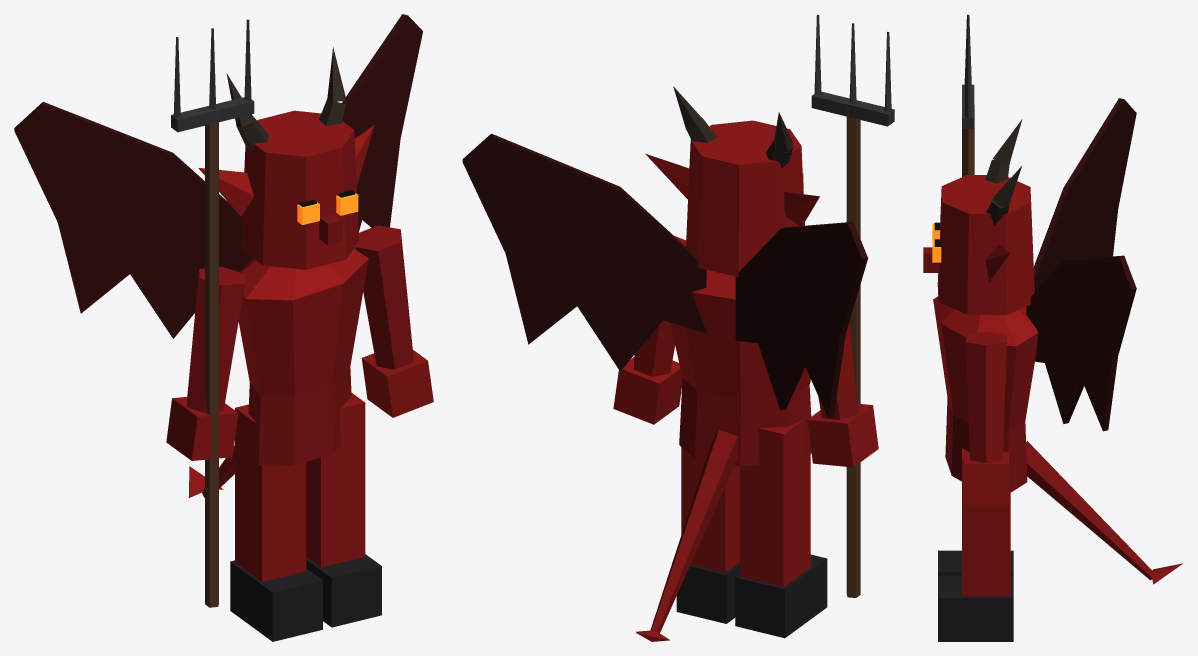
File: imp.glb
3 renders of one model, left to right at view 1: azimuth 30°, elevation 25°; view 2: azimuth 150°, elevation 25°; view 3: azimuth 270°, elevation 25°, orthographic. The views are drawn at different scales.
Parts seen in each view (by area): view 1: imp_wing_r, imp_torso, imp_head, imp_leg_r, imp_leg_l, imp_trident, imp_arm_l, imp_wing_l, imp_arm_r, imp_tail; view 2: imp_wing_l, imp_wing_r, imp_head, imp_leg_r, imp_torso, imp_trident, imp_leg_l, imp_arm_r, imp_tail, imp_arm_l; view 3: imp_head, imp_wing_l, imp_torso, imp_wing_r, imp_leg_l, imp_arm_l, imp_tail, imp_trident, imp_leg_r.
Boxes of the visible parts, <box> form: imp_wing_r: <box>14,101,253,338</box>; imp_torso: <box>238,247,368,465</box>; imp_head: <box>198,47,374,269</box>; imp_leg_r: <box>230,404,322,641</box>; imp_leg_l: <box>306,392,381,627</box>; imp_trident: <box>171,19,254,607</box>; imp_arm_l: <box>355,225,433,417</box>; imp_wing_l: <box>342,14,422,231</box>; imp_arm_r: <box>166,266,244,460</box>; imp_tail: <box>188,445,234,497</box>; imp_wing_l: <box>462,133,706,371</box>; imp_wing_r: <box>735,222,868,417</box>; imp_head: <box>645,86,819,276</box>; imp_leg_r: <box>735,418,827,638</box>; imp_torso: <box>670,270,811,466</box>; imp_trident: <box>811,15,894,597</box>; imp_leg_l: <box>676,409,739,623</box>; imp_arm_r: <box>807,320,878,467</box>; imp_tail: <box>636,430,738,641</box>; imp_arm_l: <box>613,236,686,424</box>; imp_head: <box>923,119,1034,314</box>; imp_wing_l: <box>1026,255,1136,431</box>; imp_torso: <box>933,296,1038,493</box>; imp_wing_r: <box>1033,98,1136,291</box>; imp_leg_l: <box>938,448,1013,641</box>; imp_arm_l: <box>963,331,1009,504</box>; imp_tail: <box>1026,441,1182,584</box>; imp_trident: <box>962,14,974,176</box>; imp_leg_r: <box>938,550,1013,576</box>.
Bounding box in the file's own units: 0.8601 × 1.23 × 0.532.
